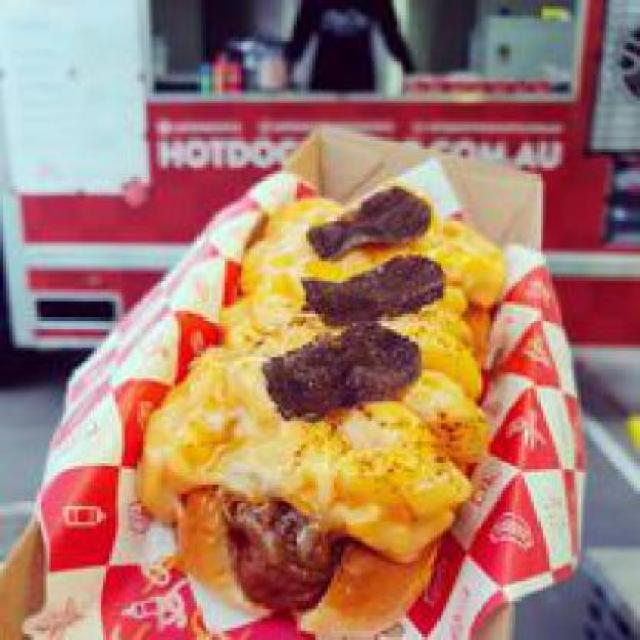hot dog: (208, 491, 347, 615)
macaroni and cheese: (132, 189, 490, 485)
